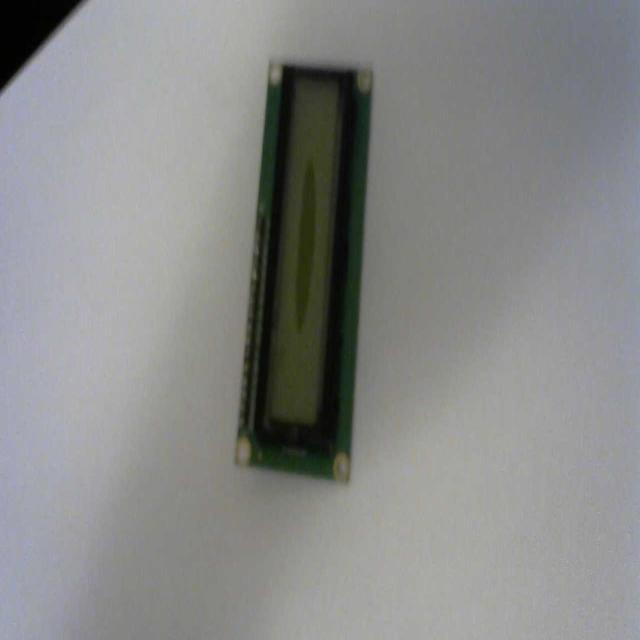lcd: (233, 56, 374, 484)
